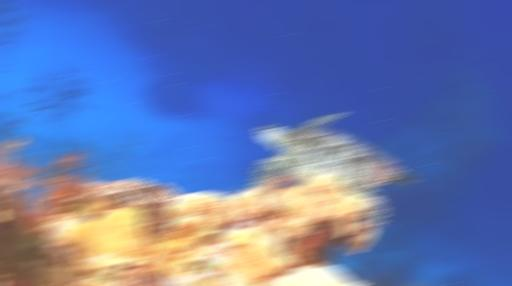Fish: (252, 114, 415, 228)
